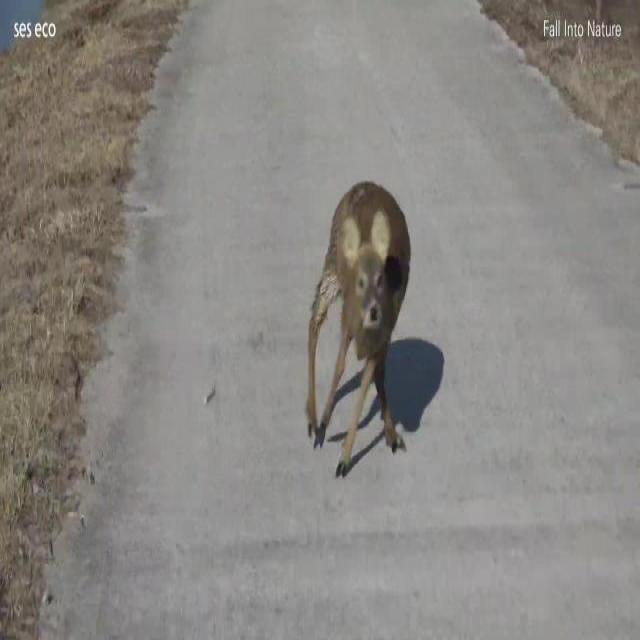deer: (302, 175, 410, 468)
